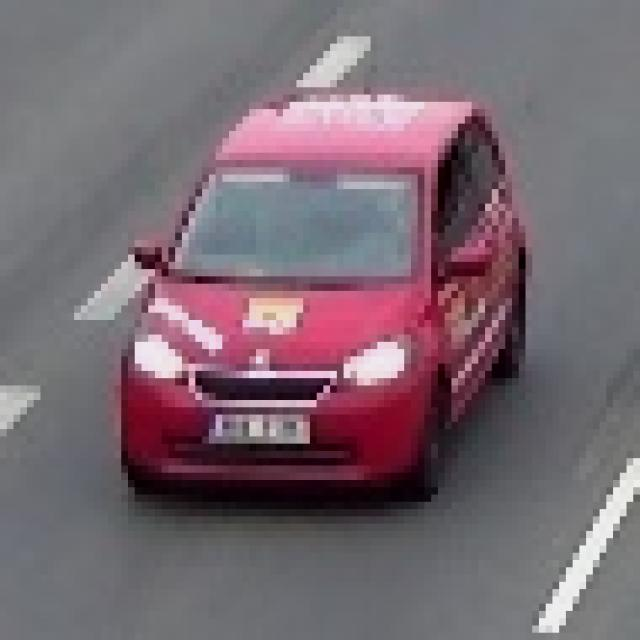red: (123, 98, 526, 490)
